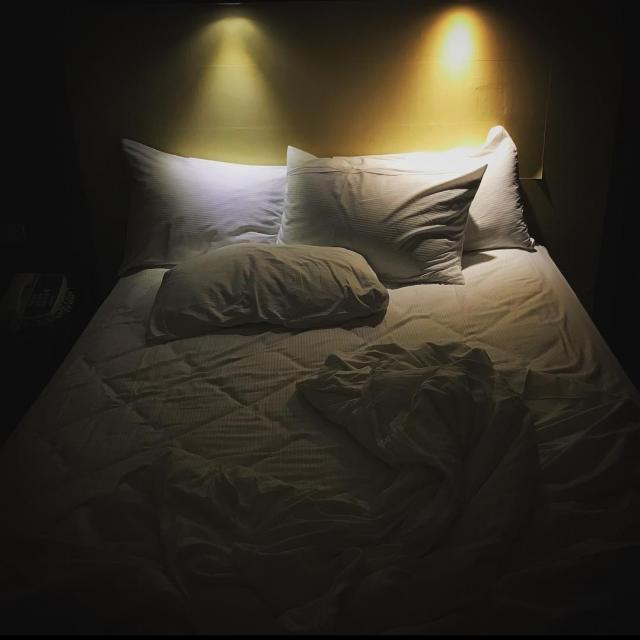bed: (80, 110, 581, 588)
